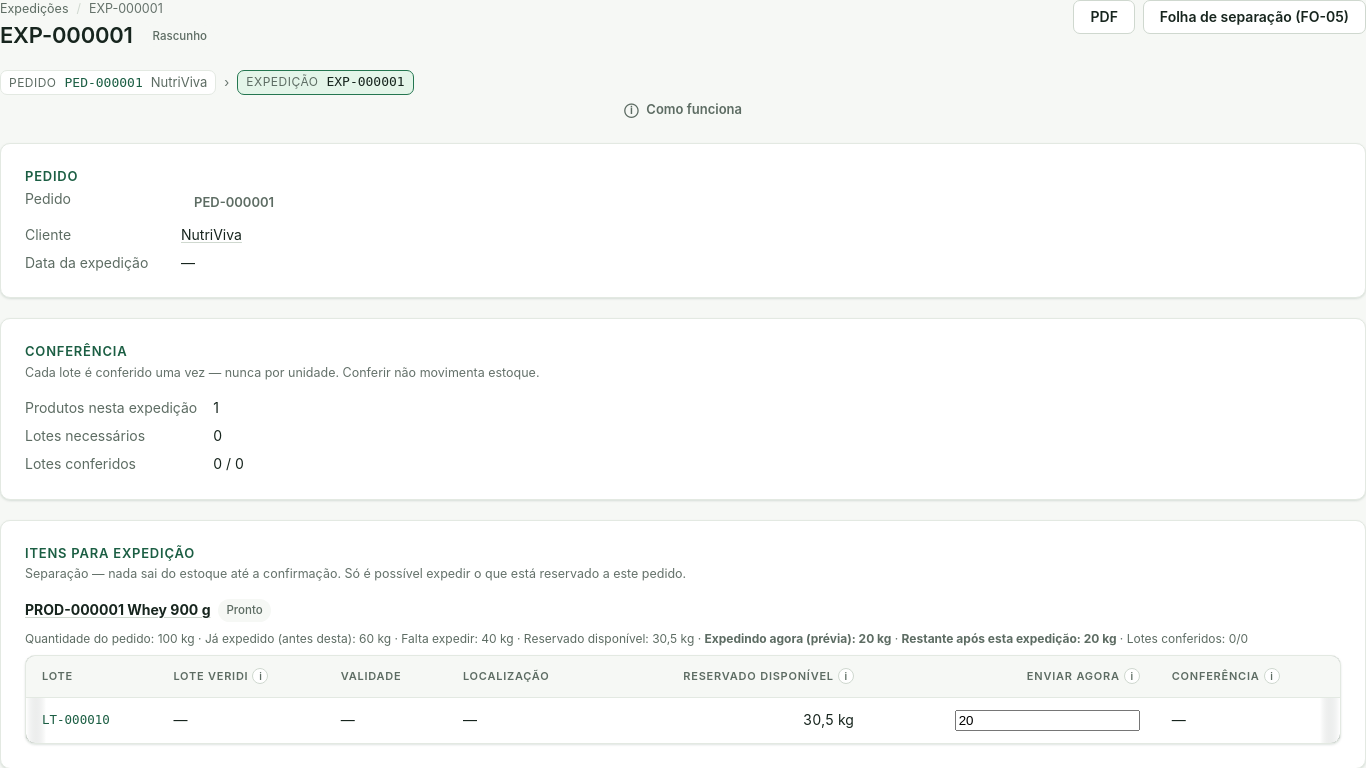
Test: Expedição — Salvar separação responde › clique duplo grava uma vez só
Check: the heading "EXP-000001" is shown, box [0,22,133,50]
Replace the text in the field named "Quantidade do lote LT-000010" with "25": (1047, 720) [955,710,1140,731]
(page scrolled)
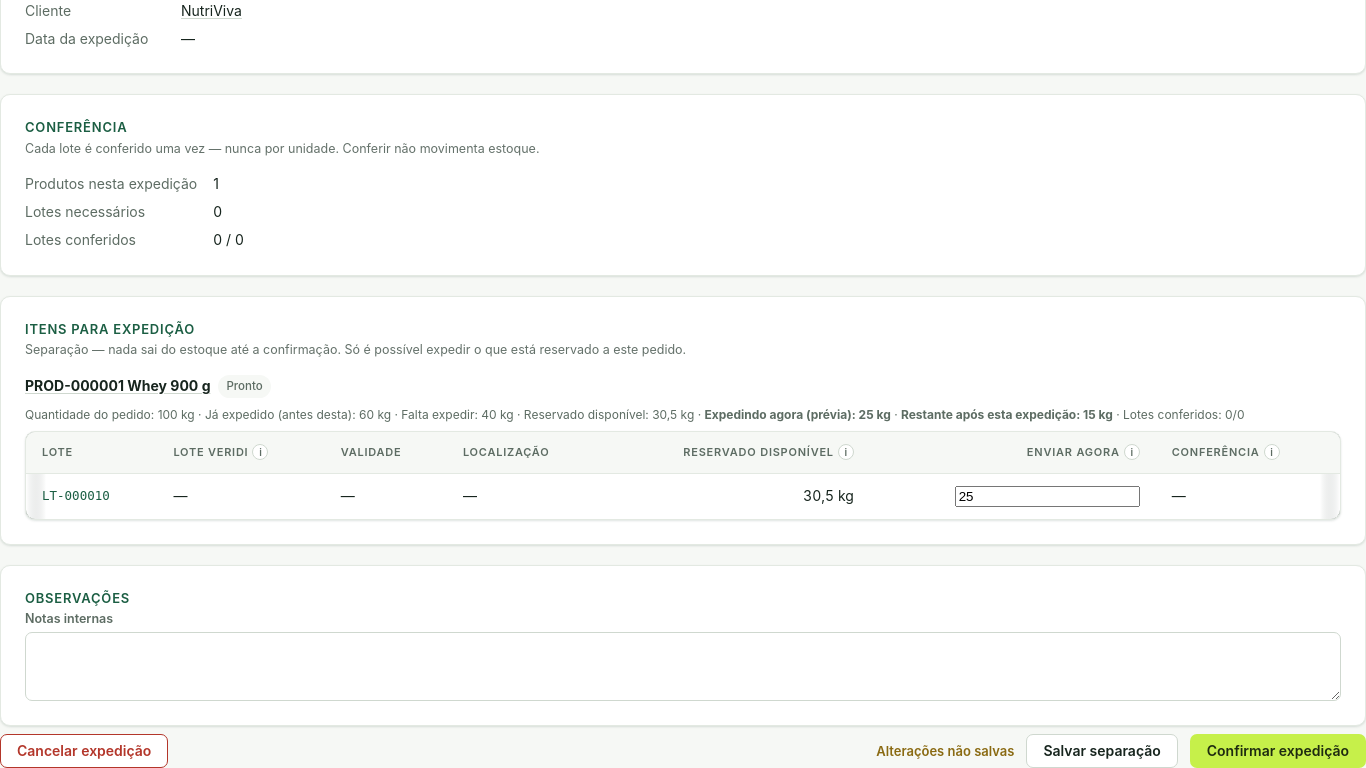
Click the button "Salvar separação": (1102, 751) [1026,734,1178,767]
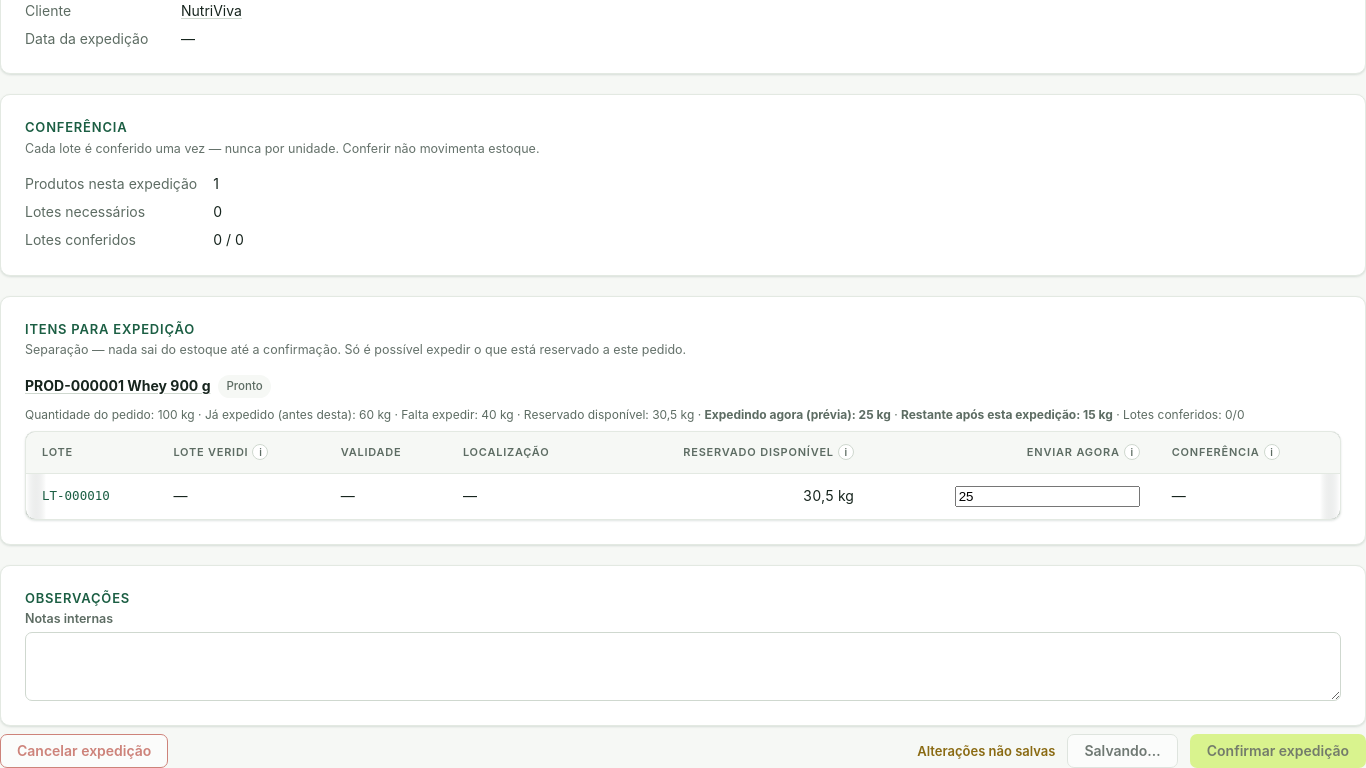
Click the button "Salvando…": (1123, 751) [1068,734,1178,767]
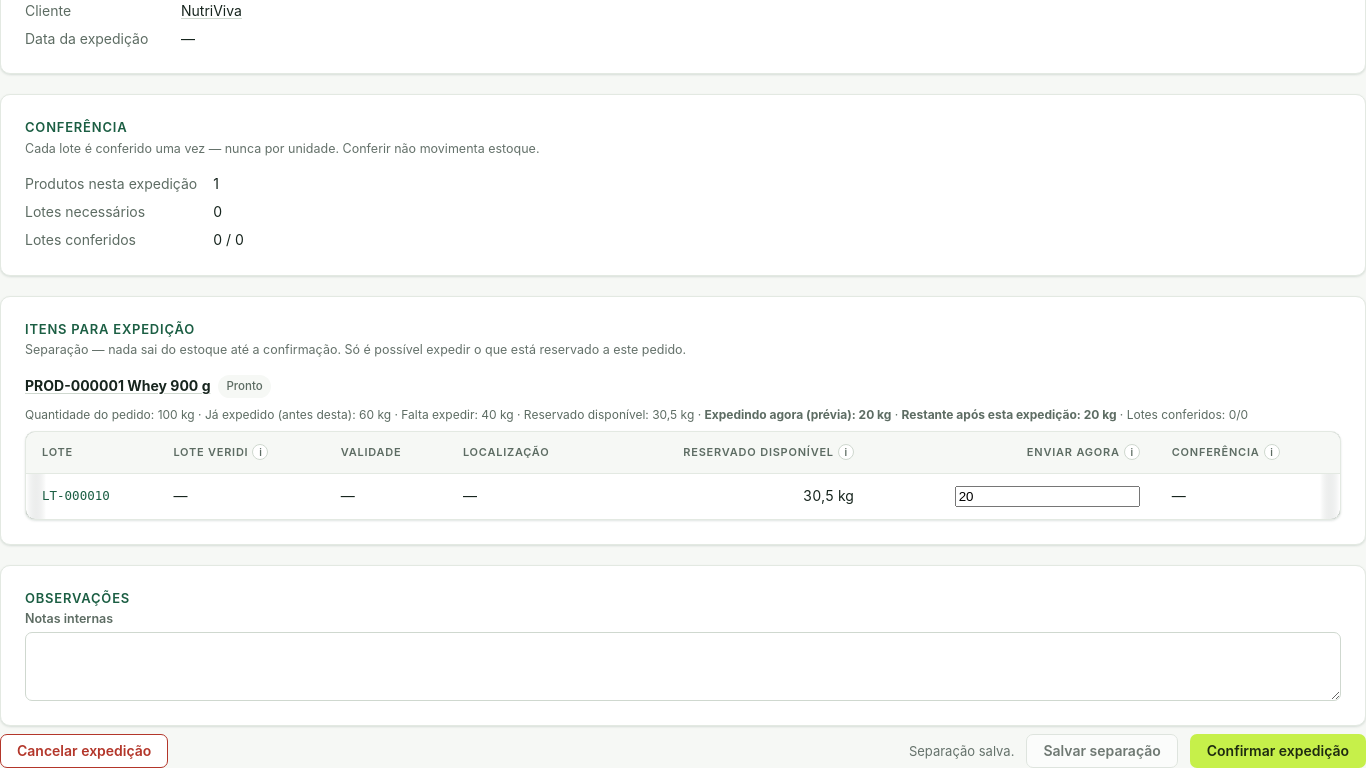
Check: the text "Separação salva." is shown, box [909,742,1014,761]
